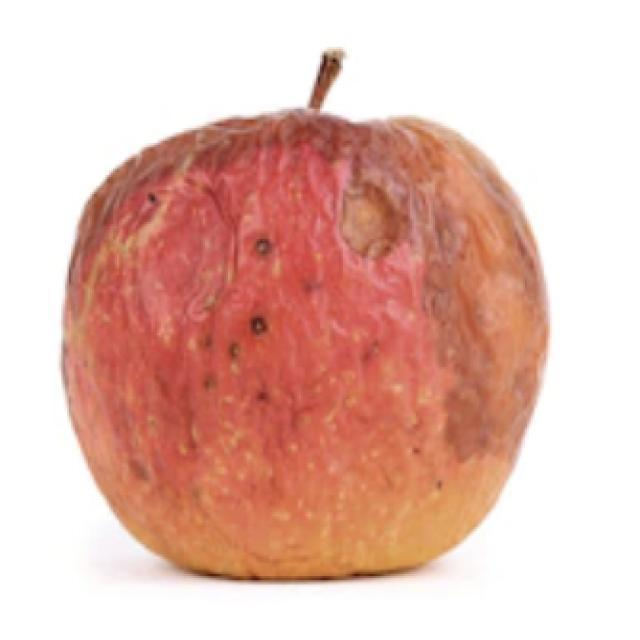Rotten: (56, 100, 558, 582)
